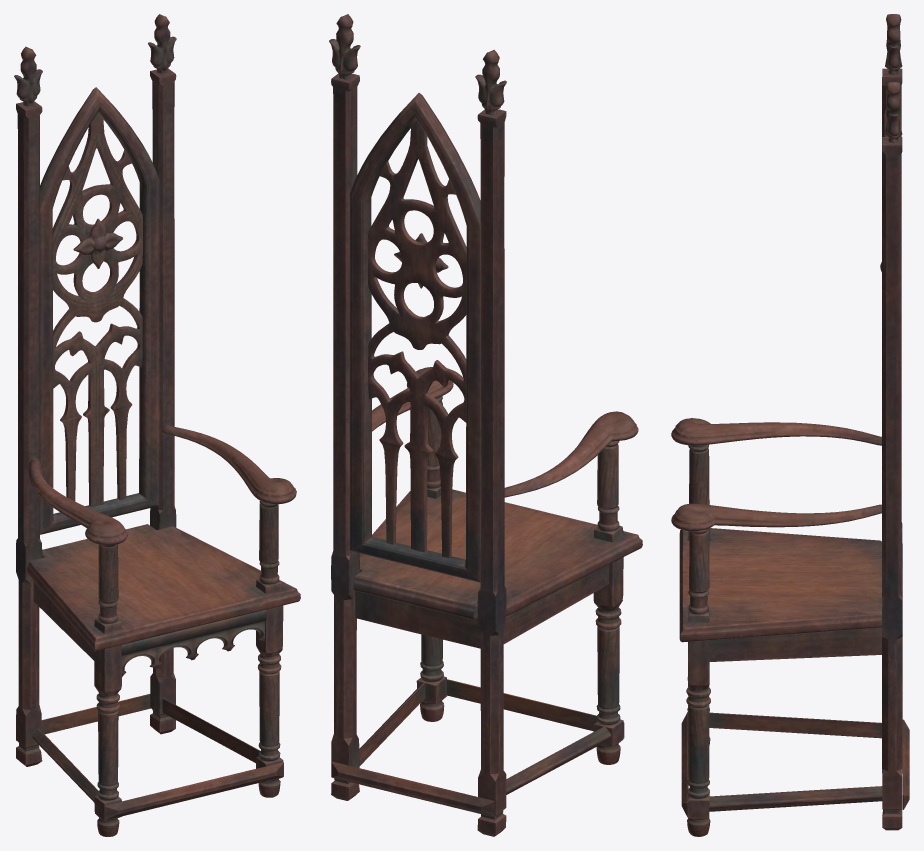
The model's file is chair-wooden-01.2fc2651a.glb.
3 renders of one model, left to right at view 1: azimuth 30°, elevation 25°; view 2: azimuth 150°, elevation 25°; view 3: azimuth 270°, elevation 25°, orthographic. The views are drawn at different scales.
Parts seen in each view (by area): view 1: model; view 2: model; view 3: model.
Boxes of the visible parts, x1,y1,x2,y2 form: model: [14, 14, 300, 836]; model: [329, 14, 642, 836]; model: [671, 14, 909, 836].
Size of the model in its own units: 0.6882 by 2.27 by 0.6585.
Materials: 1 (1 with a texture image).
